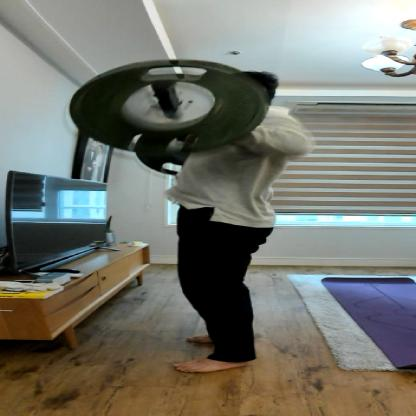Barbell: (61, 53, 282, 155)
